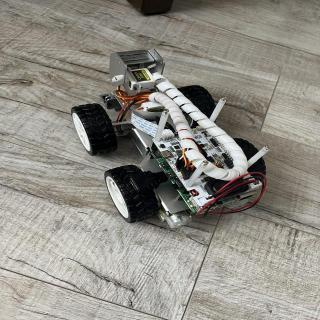vehicle: (72, 46, 272, 236)
